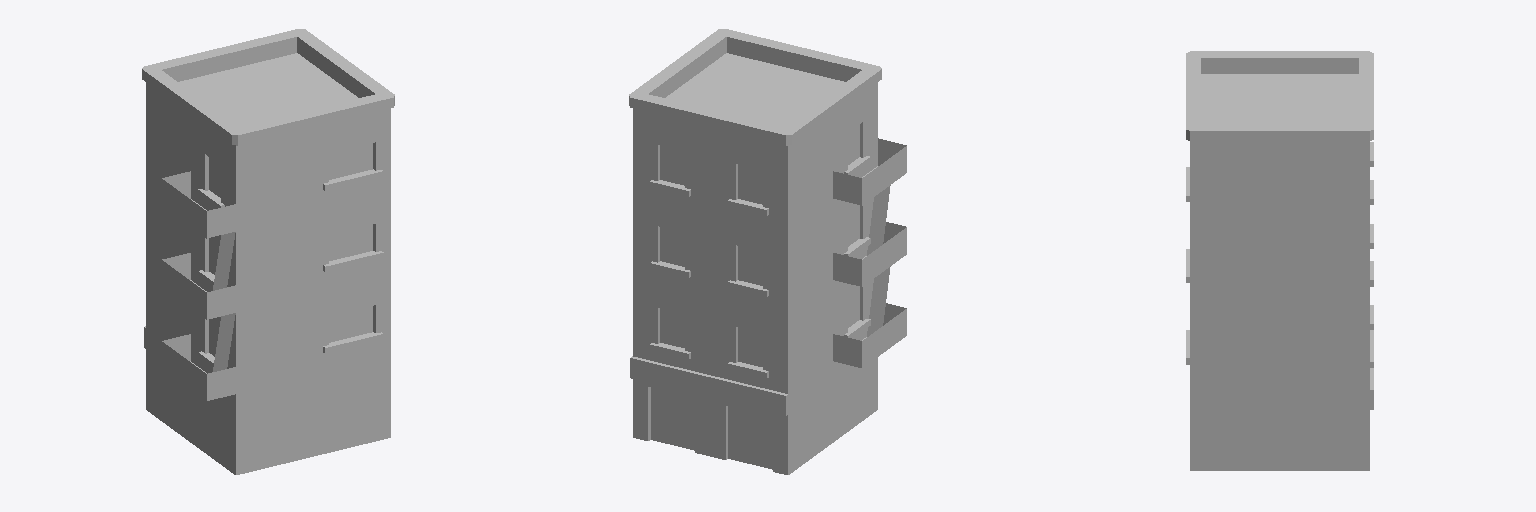
The model's file is large_building_c.obj.
The picture shows the model from 3 angles: view 1: azimuth 30°, elevation 25°; view 2: azimuth 150°, elevation 25°; view 3: azimuth 270°, elevation 25°; orthographic projection.
Visible parts, largest first — view 1: large_buildingC; view 2: large_buildingC; view 3: large_buildingC.
Boxes of the visible parts, x1=… form: large_buildingC: x1=142, y1=29, x2=394, y2=474; large_buildingC: x1=629, y1=29, x2=906, y2=474; large_buildingC: x1=1186, y1=51, x2=1373, y2=470.
Size of the model in its own units: 1.94 by 3.36 by 1.68.